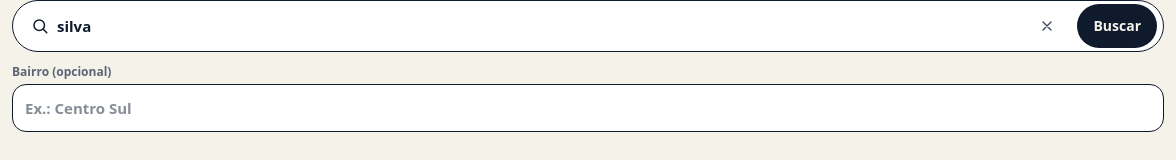
Test: SearchForm › botão limpar esvazia o campo
This screenshot has width=1176, height=160.
Click the button named "Limpar busca" at (1047, 26), box [1025,4,1069,48]
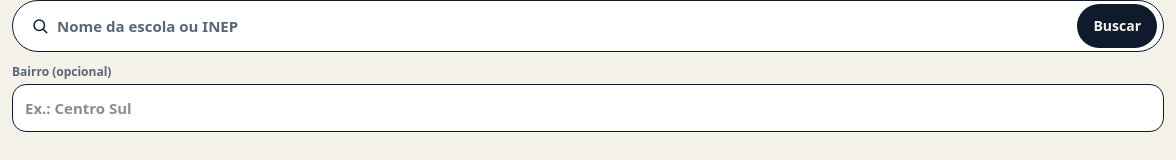
Expected: the search field named "Buscar escola pelo nome ou INEP" is empty, [57,4,1069,48]
